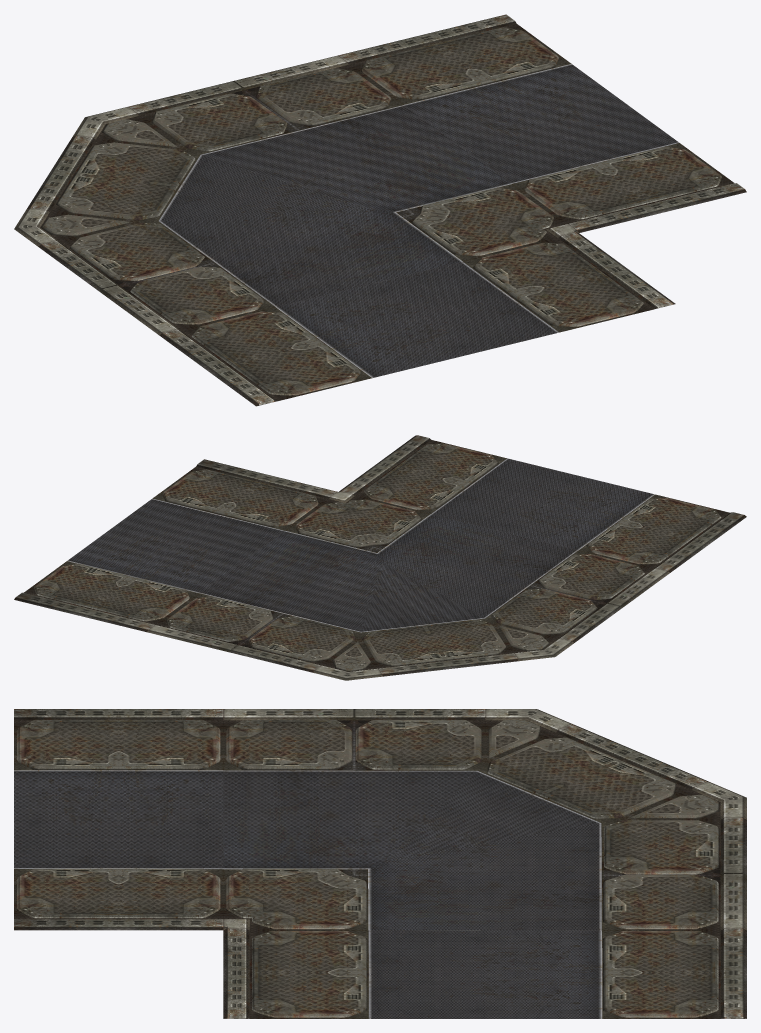
The model's file is Floor_D_5mts_03.fbx.
3 renders of one model, top to bottom at view 1: azimuth 30°, elevation 25°; view 2: azimuth 150°, elevation 25°; view 3: azimuth 270°, elevation 25°, orthographic. The views are drawn at different scales.
Parts seen in each view (by area): view 1: Floor_D_5mts_03; view 2: Floor_D_5mts_03; view 3: Floor_D_5mts_03.
Boxes of the visible parts, left/top/right/bottom form: Floor_D_5mts_03: left=14, top=14, right=746, bottom=406; Floor_D_5mts_03: left=14, top=435, right=746, bottom=680; Floor_D_5mts_03: left=14, top=709, right=746, bottom=1018.
Bounding box in the file's own units: 700 × 2.21 × 700.
1 material, 1 textured.
